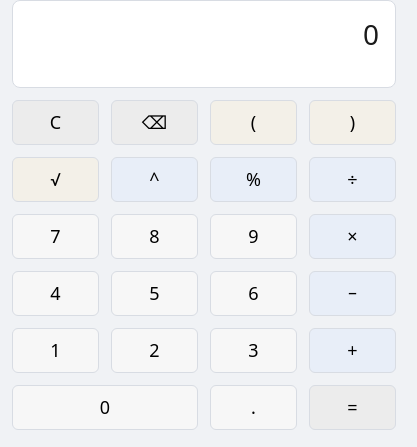
Calculator › builds 3+4 when clicking 3, +, 4
Click the button "3" at [254, 350], box top-left (210, 328), bottom-right (297, 373)
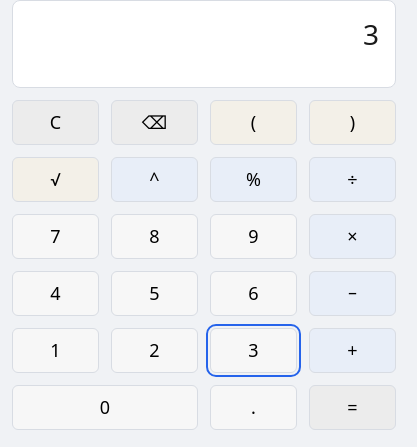
Click the button named "Add" at [352, 350], box top-left (309, 328), bottom-right (396, 373)
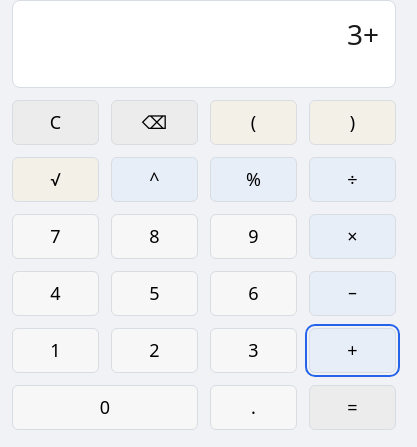
Click the button "4" at [56, 294], box top-left (12, 271), bottom-right (99, 316)
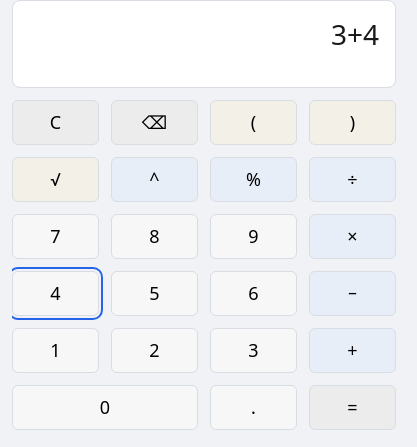
Now the text named "Display" reads "3+4", box top-left (331, 15), bottom-right (379, 53)
